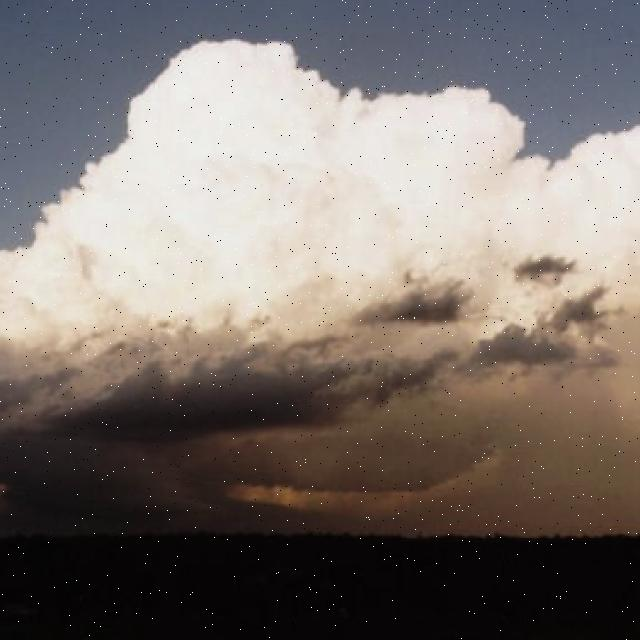Cb: (1, 68, 640, 451)
